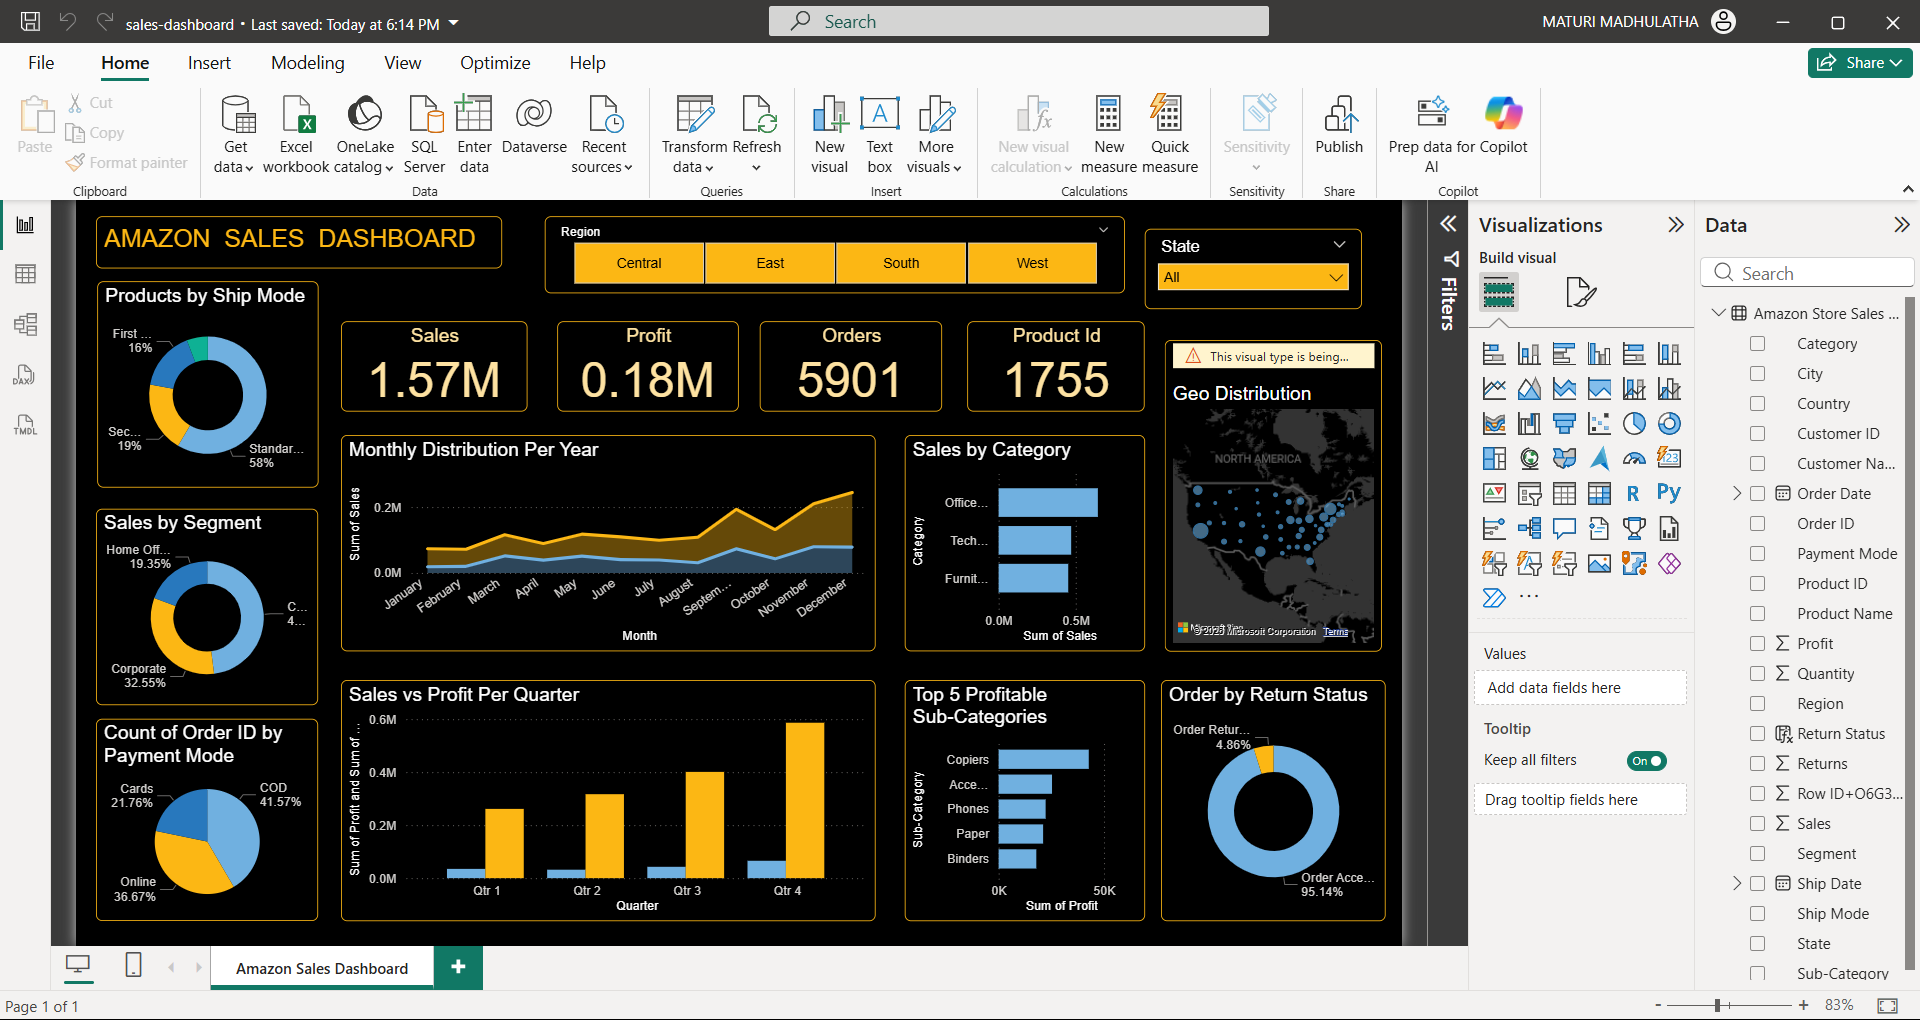

Layout of this report page (visuals, bound fields, positions):
{"tool":"powerbi","page":{"name":"Amazon Sales Dashboard","canvas":[1280,720],"ordinal":0},"visuals":[{"type":"clusteredBarChart","title":"Sales by Category","fields":{"Category":["Amazon Store Sales Data xlsx - Sheet1 (1) (1).Category"],"Y":["Sum(Amazon Store Sales Data xlsx - Sheet1 (1) (1).Sales)"]},"box":[799.9,226.8,231.6,208.7],"z":0},{"type":"clusteredBarChart","title":"Top 5 Profitable Sub-Categories","fields":{"Category":["Amazon Store Sales Data xlsx - Sheet1 (1) (1).Sub-Category"],"Y":["Sum(Amazon Store Sales Data xlsx - Sheet1 (1) (1).Profit)"]},"box":[799.9,463.3,231.6,232.8],"z":1000},{"type":"donutChart","title":"Sales by Segment","fields":{"Category":["Amazon Store Sales Data xlsx - Sheet1 (1) (1).Segment"],"Y":["Sum(Amazon Store Sales Data xlsx - Sheet1 (1) (1).Sales)"]},"box":[19.3,298,214.7,189.4],"z":2000},{"type":"donutChart","title":"Products by Ship Mode","fields":{"Category":["Amazon Store Sales Data xlsx - Sheet1 (1) (1).Ship Mode"],"Y":["CountNonNull(Amazon Store Sales Data xlsx - Sheet1 (1) (1).Product ID)"]},"box":[20.5,78.4,213.5,199.1],"z":3000},{"type":"pieChart","fields":{"Category":["Amazon Store Sales Data xlsx - Sheet1 (1) (1).Payment Mode"],"Y":["CountNonNull(Amazon Store Sales Data xlsx - Sheet1 (1) (1).Order ID)"]},"box":[19.3,500.7,214.7,195.4],"z":4000},{"type":"donutChart","title":" Order by Return Status","fields":{"Y":["CountNonNull(Amazon Store Sales Data xlsx - Sheet1 (1) (1).Order ID)"],"Category":["Amazon Store Sales Data xlsx - Sheet1 (1) (1).Return Status"]},"box":[1047.2,463.3,217.2,232.8],"z":5000},{"type":"stackedAreaChart","title":"Monthly Distribution Per Year","fields":{"Y":["Sum(Amazon Store Sales Data xlsx - Sheet1 (1) (1).Sales)"],"Category":["Amazon Store Sales Data xlsx - Sheet1 (1) (1).Order Date.Variation.Date Hierarchy.Month"],"Series":["Amazon Store Sales Data xlsx - Sheet1 (1) (1).Order Date.Variation.Date Hierarchy.Year"]},"box":[255.8,226.8,516.4,208.7],"z":6000},{"type":"clusteredColumnChart","title":"Sales vs Profit Per Quarter","fields":{"Category":["Amazon Store Sales Data xlsx - Sheet1 (1) (1).Order Date.Variation.Date Hierarchy.Quarter"],"Y":["Sum(Amazon Store Sales Data xlsx - Sheet1 (1) (1).Profit)","Sum(Amazon Store Sales Data xlsx - Sheet1 (1) (1).Sales)"]},"box":[255.8,463.3,516.4,232.8],"z":7000},{"type":"map","title":"Geo Distribution","fields":{"Category":["Amazon Store Sales Data xlsx - Sheet1 (1) (1).State"],"Size":["Sum(Amazon Store Sales Data xlsx - Sheet1 (1) (1).Sales)"]},"box":[1050.8,135.1,209.9,300.4],"z":8000},{"type":"slicer","fields":{"Values":["Amazon Store Sales Data xlsx - Sheet1 (1) (1).Region"]},"box":[452.4,15.7,559.8,74.8],"z":9000},{"type":"slicer","fields":{"Values":["Amazon Store Sales Data xlsx - Sheet1 (1) (1).State"]},"box":[1031.5,27.7,209.9,77.2],"z":10000},{"type":"textbox","box":[19.3,15.7,392.1,50.7],"z":11000},{"type":"card","title":"Sales","fields":{"Values":["Sum(Amazon Store Sales Data xlsx - Sheet1 (1) (1).Sales)"]},"box":[255.8,117,179.8,86.9],"z":12000},{"type":"card","title":"Profit","fields":{"Values":["Sum(Amazon Store Sales Data xlsx - Sheet1 (1) (1).Profit)"]},"box":[464.5,117,174.9,86.9],"z":13000},{"type":"card","title":"Orders","fields":{"Values":["CountNonNull(Amazon Store Sales Data xlsx - Sheet1 (1) (1).Order ID)"]},"box":[659.9,117,176.1,86.9],"z":14000},{"type":"card","title":"Product Id","fields":{"Values":["Count(Amazon Store Sales Data xlsx - Sheet1 (1) (1).Product ID)"]},"box":[860.2,117,171.3,86.9],"z":15000}]}

Visuals, with their boxes on the page's 1280x720 design canvas (x1, y1, x2, y2). These are canvas units, not pixel positions in the 1920x1020 screenshot, which may show the page scaled, cropped or inside an application window:
"Sales by Category" clusteredBarChart: <bbox>800, 227, 1032, 436</bbox>
"Top 5 Profitable Sub-Categories" clusteredBarChart: <bbox>800, 463, 1032, 696</bbox>
"Sales by Segment" donutChart: <bbox>19, 298, 234, 487</bbox>
"Products by Ship Mode" donutChart: <bbox>20, 78, 234, 278</bbox>
pieChart - Amazon Store Sales Data xlsx - Sheet1 (1) (1).Payment Mode x CountNonNull(Amazon Store Sales Data xlsx - Sheet1 (1) (1).Order ID): <bbox>19, 501, 234, 696</bbox>
" Order by Return Status" donutChart: <bbox>1047, 463, 1264, 696</bbox>
"Monthly Distribution Per Year" stackedAreaChart: <bbox>256, 227, 772, 436</bbox>
"Sales vs Profit Per Quarter" clusteredColumnChart: <bbox>256, 463, 772, 696</bbox>
"Geo Distribution" map: <bbox>1051, 135, 1261, 436</bbox>
slicer - Amazon Store Sales Data xlsx - Sheet1 (1) (1).Region: <bbox>452, 16, 1012, 90</bbox>
slicer - Amazon Store Sales Data xlsx - Sheet1 (1) (1).State: <bbox>1032, 28, 1241, 105</bbox>
textbox: <bbox>19, 16, 411, 66</bbox>
"Sales" card: <bbox>256, 117, 436, 204</bbox>
"Profit" card: <bbox>464, 117, 639, 204</bbox>
"Orders" card: <bbox>660, 117, 836, 204</bbox>
"Product Id" card: <bbox>860, 117, 1032, 204</bbox>
